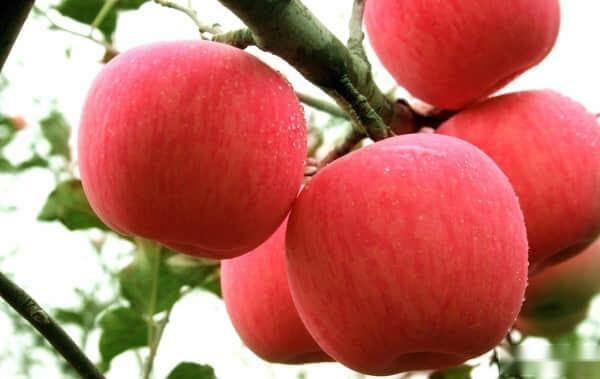apple: (282, 131, 534, 372), (81, 41, 313, 254), (432, 92, 600, 271), (361, 1, 556, 112), (221, 184, 336, 367)
